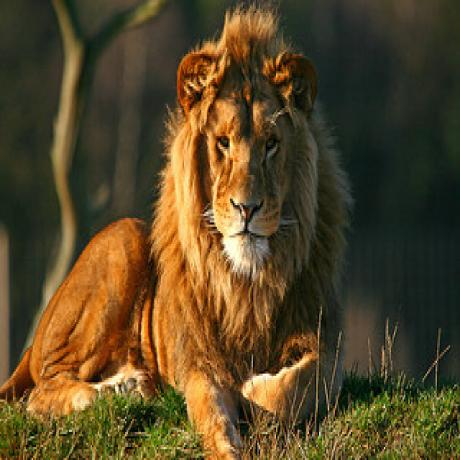Lion: (2, 7, 352, 460)
